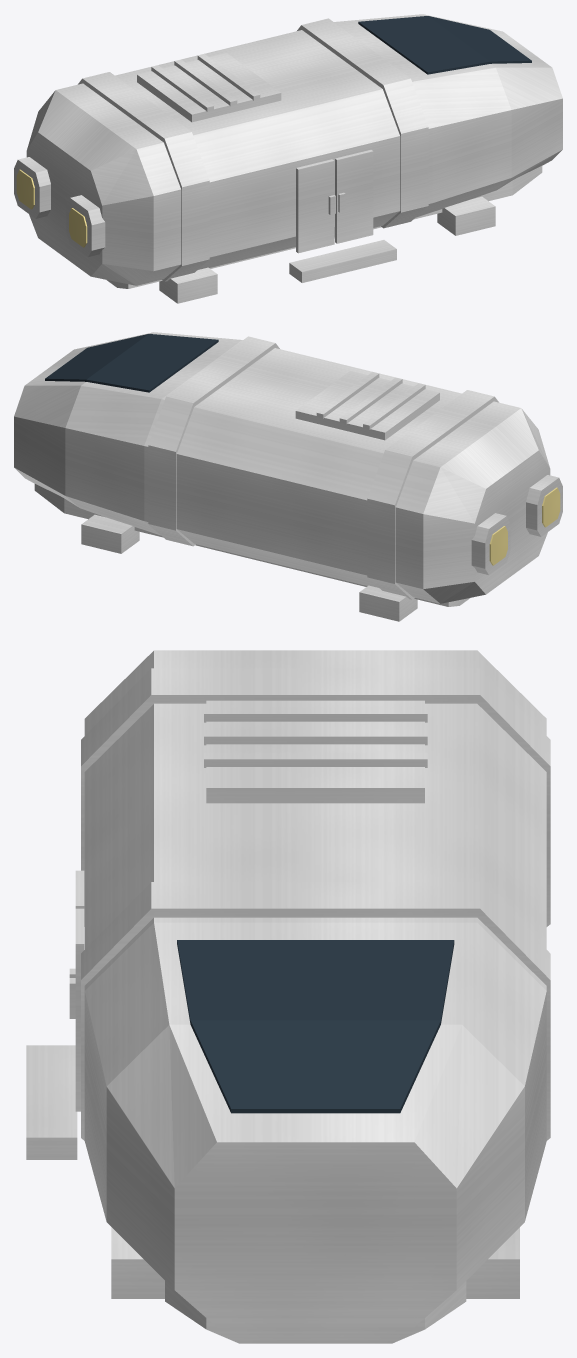
The model's file is shuttle_imperial.obj.
3 views of the same model, one above another, from view 1: azimuth 30°, elevation 25°; view 2: azimuth 150°, elevation 25°; view 3: azimuth 270°, elevation 25° (orthographic). The views are drawn at different scales.
Parts seen in each view (by area): view 1: shuttle_imperial; view 2: shuttle_imperial; view 3: shuttle_imperial.
Part boxes in pixels (<box>): shuttle_imperial: <box>14,14,562,303</box>; shuttle_imperial: <box>14,332,562,621</box>; shuttle_imperial: <box>26,650,550,1343</box>.
Bounding box in the file's own units: 4.53 × 1.51 × 2.16.
